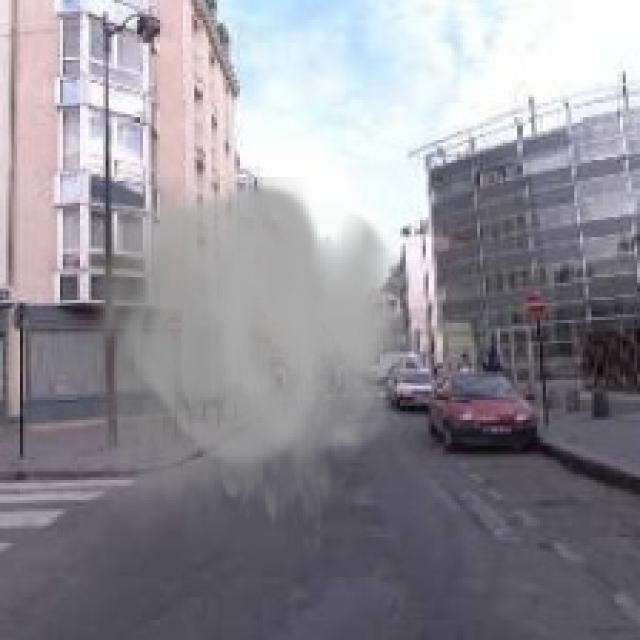smoke: (71, 177, 420, 569)
